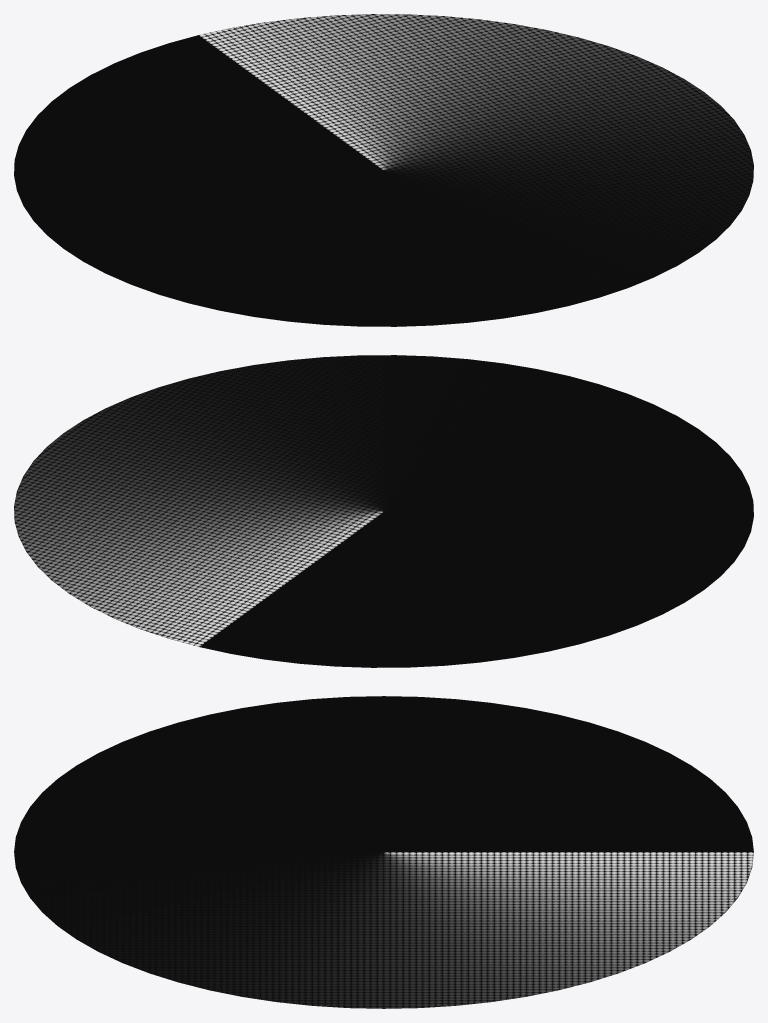
File: Spot-Radar-01.glb
3 renders of one model, top to bottom at view 1: azimuth 30°, elevation 25°; view 2: azimuth 150°, elevation 25°; view 3: azimuth 270°, elevation 25°, orthographic.
Parts seen in each view (by area): view 1: Spot-Radar-01-1; view 2: Spot-Radar-01-1; view 3: Spot-Radar-01-1.
Boxes of the visible parts, left/top/right/bottom form: Spot-Radar-01-1: left=14, top=14, right=753, bottom=326; Spot-Radar-01-1: left=14, top=355, right=753, bottom=667; Spot-Radar-01-1: left=14, top=696, right=753, bottom=1008.
Bounding box in the file's own units: 0.8172 × 0 × 0.8172.
Materials: 1 (1 with a texture image).
